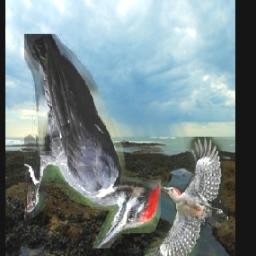Woodpecker: (24, 34, 161, 248), (144, 137, 227, 256)
